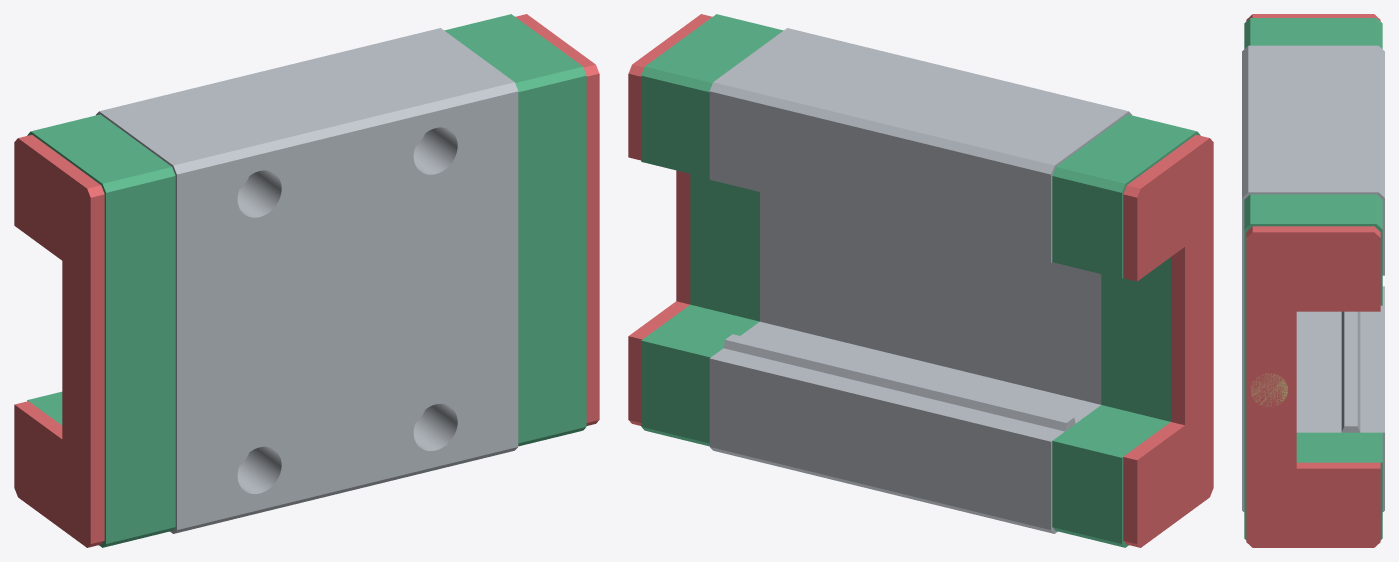
3 views of the same model, side by side, from view 1: azimuth 30°, elevation 25°; view 2: azimuth 150°, elevation 25°; view 3: azimuth 270°, elevation 25° (orthographic). The views are drawn at different scales.
Parts seen in each view (by area): view 1: steel_saddle, endcap_neg_x, endcap_pos_x, wiper_neg_x, wiper_pos_x; view 2: steel_saddle, endcap_neg_x, endcap_pos_x, wiper_neg_x, wiper_pos_x; view 3: steel_saddle, wiper_pos_x, endcap_pos_x, endcap_neg_x, grease_port, wiper_neg_x.
Part boxes in pixels (x1,y1,x2,y2): steel_saddle: (96, 28, 518, 533); endcap_neg_x: (27, 114, 175, 547); endcap_pos_x: (444, 14, 586, 446); wiper_neg_x: (14, 135, 104, 547); wiper_pos_x: (515, 14, 599, 425); steel_saddle: (709, 28, 1131, 533); endcap_neg_x: (1052, 114, 1200, 547); endcap_pos_x: (641, 14, 783, 446); wiper_neg_x: (1123, 135, 1213, 547); wiper_pos_x: (628, 14, 712, 425); steel_saddle: (1242, 45, 1384, 511); wiper_pos_x: (1246, 226, 1380, 547); endcap_pos_x: (1244, 194, 1382, 539); endcap_neg_x: (1244, 18, 1382, 48); grease_port: (1250, 373, 1287, 406); wiper_neg_x: (1246, 14, 1380, 21).
Size of the model in its own units: 0.0289 by 0.02 by 0.008.
